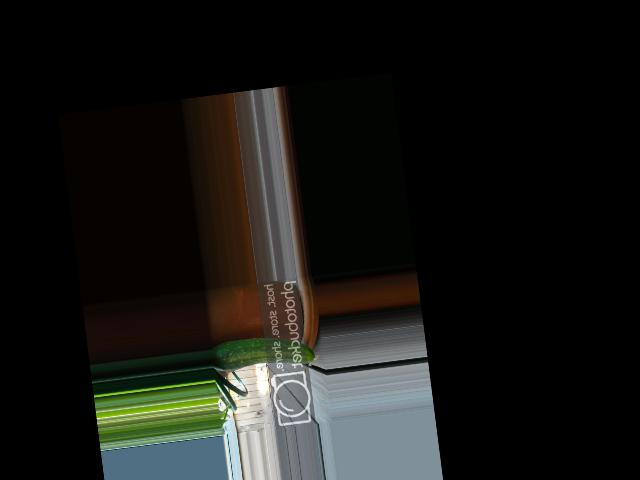cucumber: (211, 330, 320, 375)
